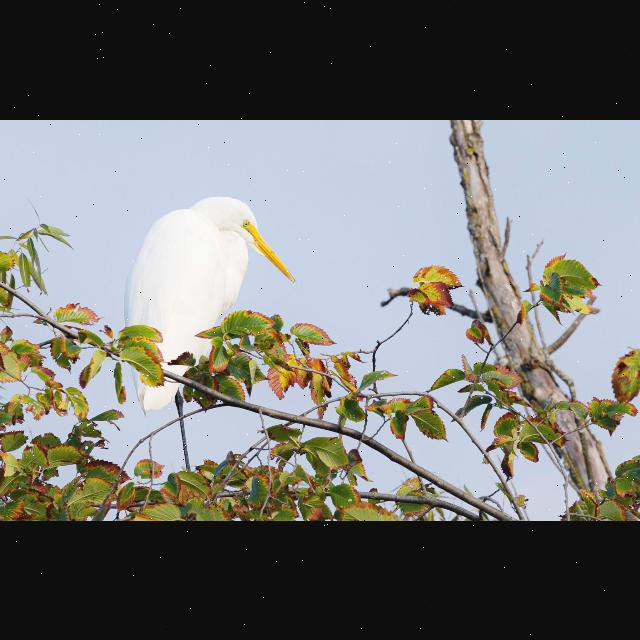egret: (115, 190, 298, 460)
